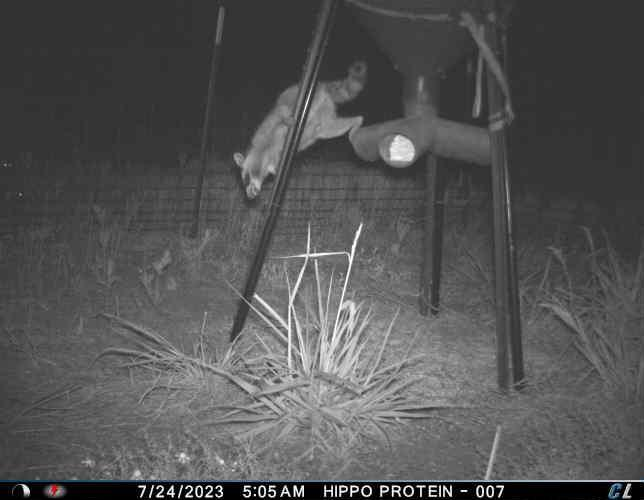Raccoon: (230, 55, 372, 203)
